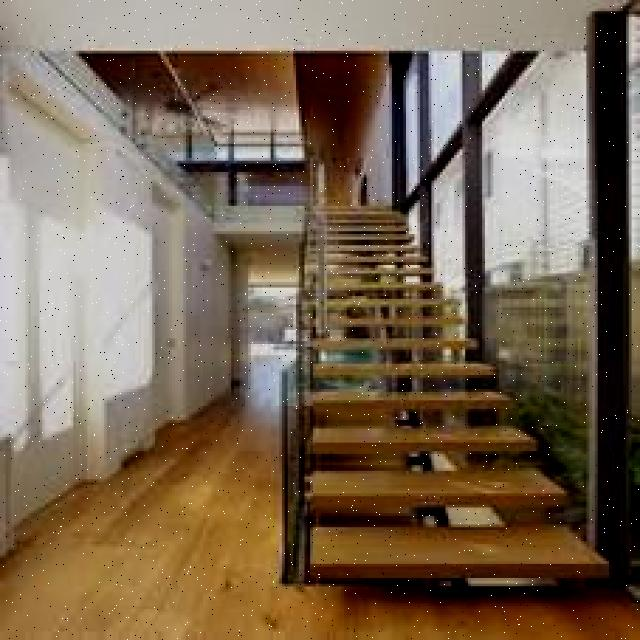stairs: (284, 174, 604, 586)
